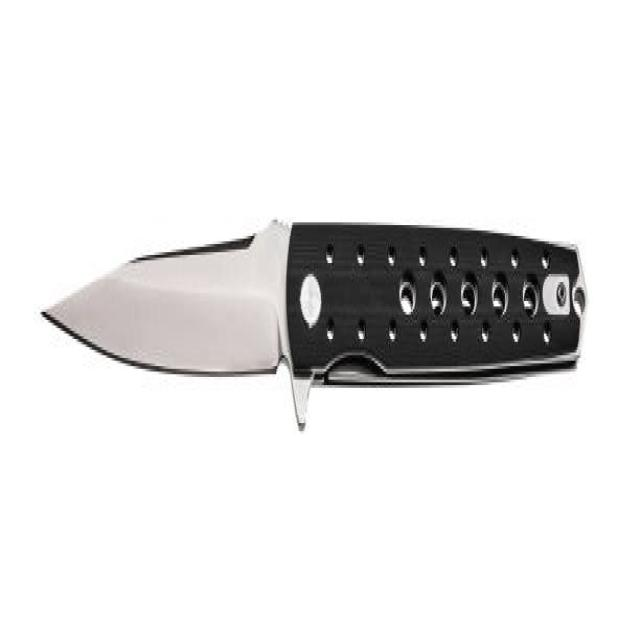knife: (40, 208, 589, 435)
